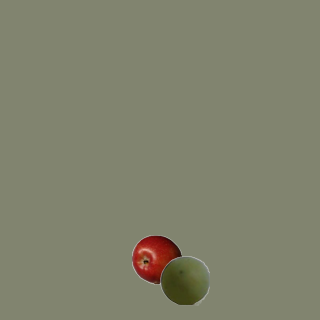Apple Braeburn: (131, 234, 181, 284)
Grape White 4: (159, 255, 209, 305)
